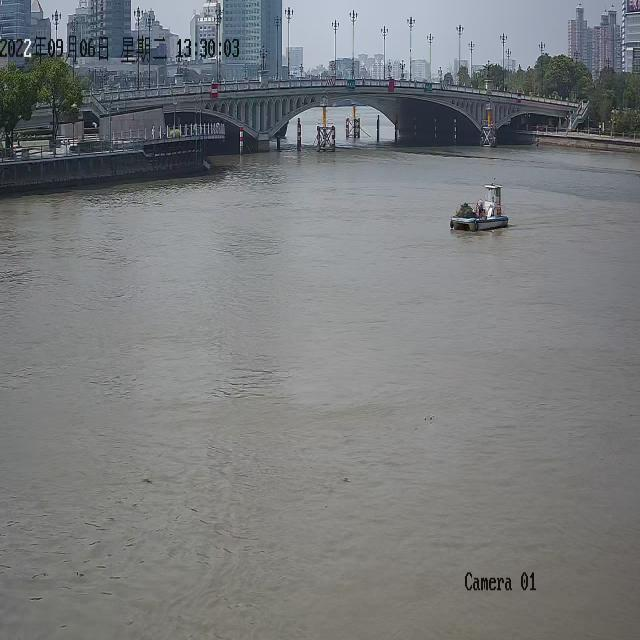ship: (450, 176, 508, 230), (273, 119, 288, 137)
